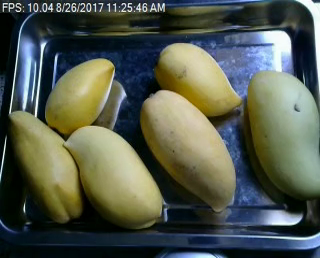Mango: (140, 89, 235, 210), (69, 125, 167, 229), (247, 71, 320, 200), (7, 109, 82, 222), (152, 44, 240, 116), (43, 57, 114, 134)
